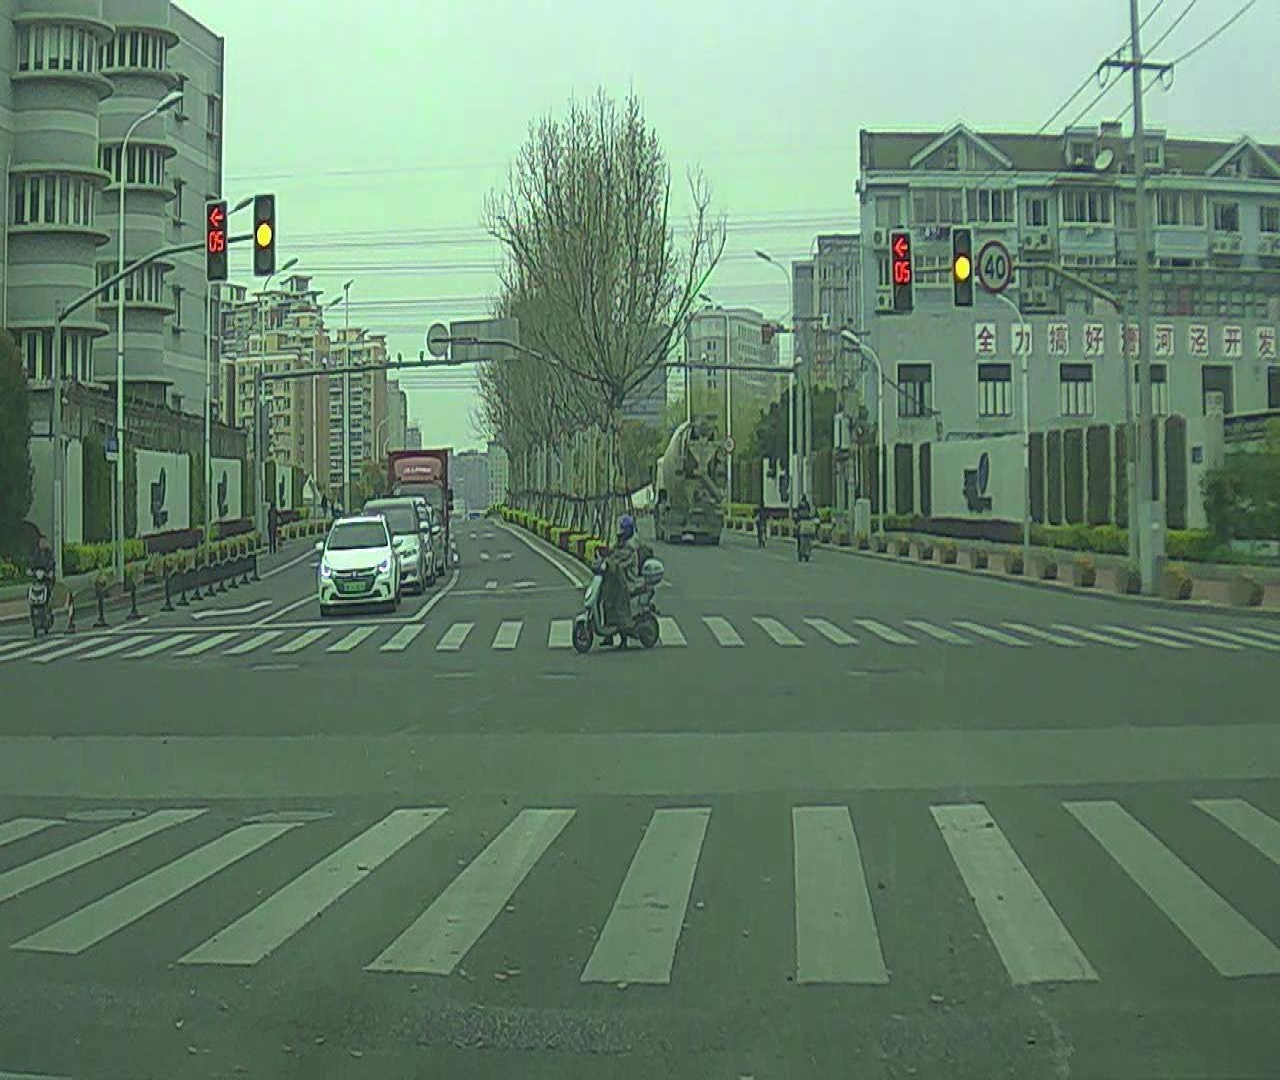red: (204, 195, 228, 280), (890, 229, 914, 310)
yellow: (952, 228, 975, 310), (252, 196, 275, 271)
